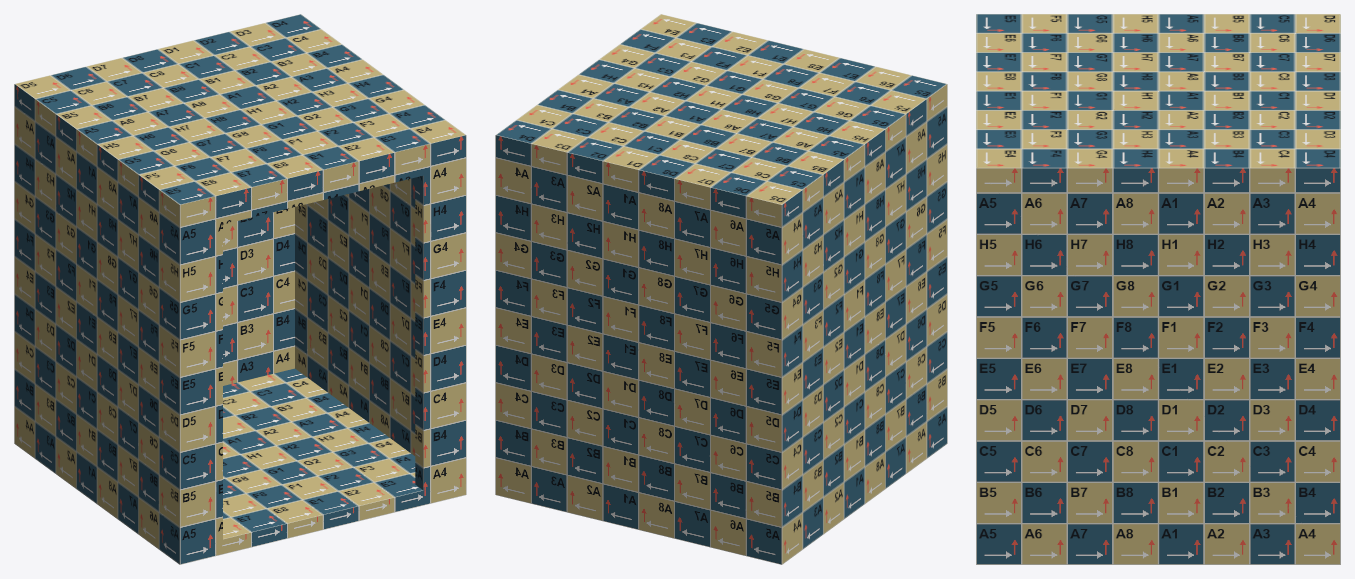
The model's file is ELEVATOR_CabShell.fbx.
The picture shows the model from 3 angles, left to right: view 1: azimuth 30°, elevation 25°; view 2: azimuth 150°, elevation 25°; view 3: azimuth 270°, elevation 25°; orthographic projection. The views are drawn at different scales.
Parts seen in each view (by area): view 1: ELEVATOR_CabShell; view 2: ELEVATOR_CabShell; view 3: ELEVATOR_CabShell.
Boxes of the visible parts, box(x1,y1,x2,y2) form: ELEVATOR_CabShell: box(14, 14, 466, 564); ELEVATOR_CabShell: box(495, 14, 947, 564); ELEVATOR_CabShell: box(976, 14, 1340, 564).
Size of the model in its own units: 200 by 240 by 200.
1 material, 1 textured.
